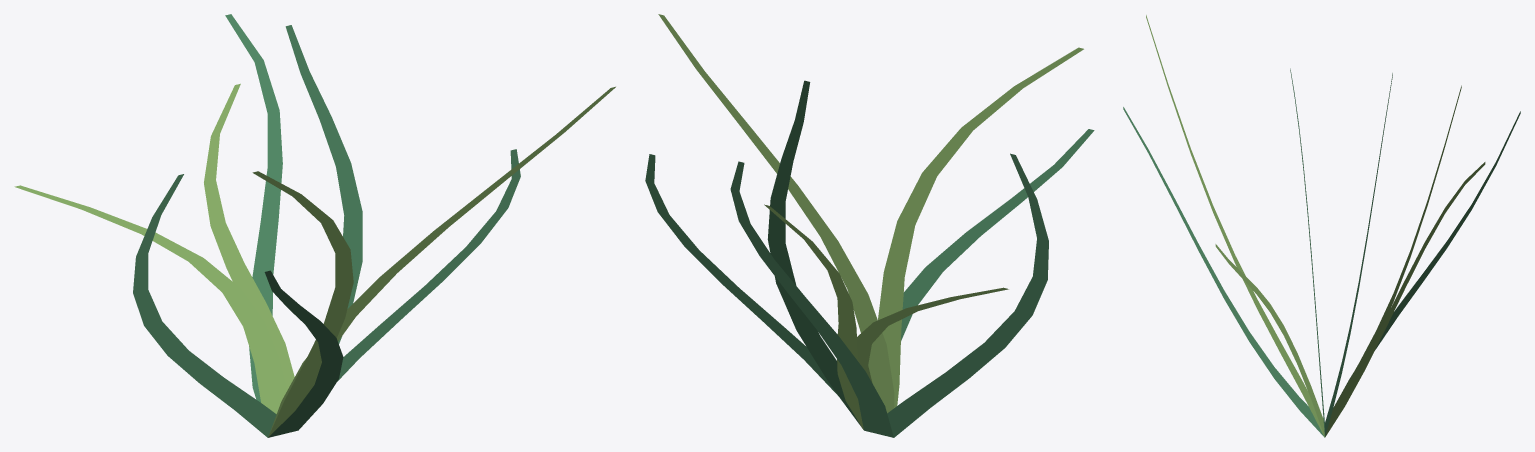
The model's file is seagrass.glb.
3 views of the same model, side by side, from view 1: azimuth 30°, elevation 25°; view 2: azimuth 150°, elevation 25°; view 3: azimuth 270°, elevation 25° (orthographic). The views are drawn at different scales.
Parts seen in each view (by area): view 1: frond.004, frond.001, frond.006, frond.007, frond.003, frond.008, frond.002, frond, frond.005; view 2: frond.007, frond.004, frond.005, frond.006, frond.008, frond.002, frond, frond.003, frond.001; view 3: frond.002, frond.007, frond.001, frond.003, frond.006, frond.005, frond.008, frond.004.
Boxes of the visible parts, x1,y1,x2,y2 form: frond.004: (133, 174, 276, 437); frond.001: (14, 185, 287, 413); frond.006: (225, 14, 282, 402); frond.007: (252, 171, 353, 436); frond.003: (204, 83, 294, 389); frond.008: (285, 25, 362, 343); frond.002: (264, 270, 343, 437); frond: (337, 149, 520, 381); frond.005: (269, 86, 615, 434); frond.007: (878, 47, 1083, 407); frond.004: (887, 153, 1048, 437); frond.005: (658, 14, 894, 413); frond.006: (730, 161, 893, 437); frond.008: (767, 80, 862, 428); frond.002: (901, 129, 1094, 340); frond: (645, 154, 856, 420); frond.003: (764, 204, 863, 429); frond.001: (857, 287, 1008, 383); frond.002: (1123, 107, 1324, 437); frond.007: (1146, 15, 1324, 436); frond.001: (1325, 85, 1461, 436); frond.003: (1326, 162, 1485, 435); frond.006: (1333, 111, 1520, 407); frond.005: (1215, 244, 1324, 437); frond.008: (1325, 73, 1392, 436); frond.004: (1290, 68, 1324, 435).
Bounding box in the file's own units: 1.1 × 0.82 × 0.7854.
